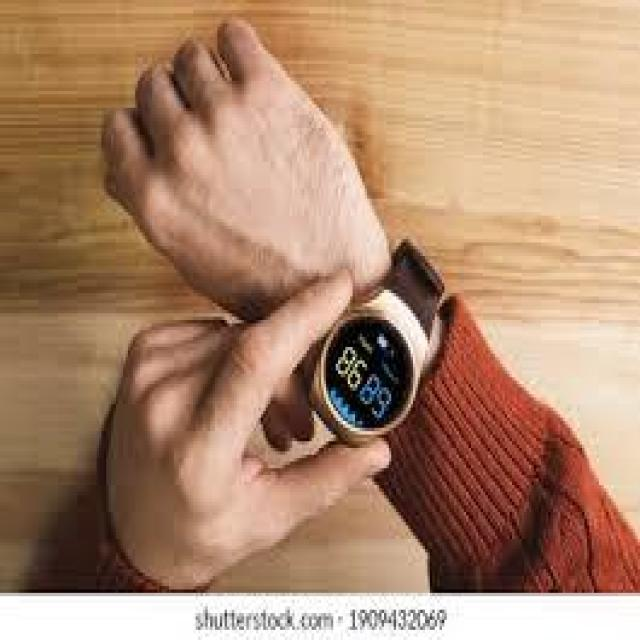watch: (262, 213, 468, 515)
